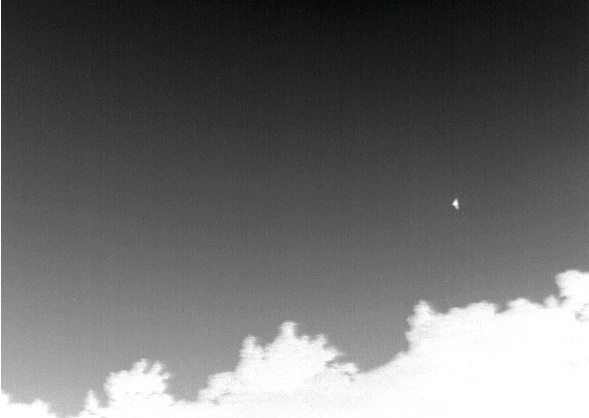dim target: (450, 197, 461, 211)
